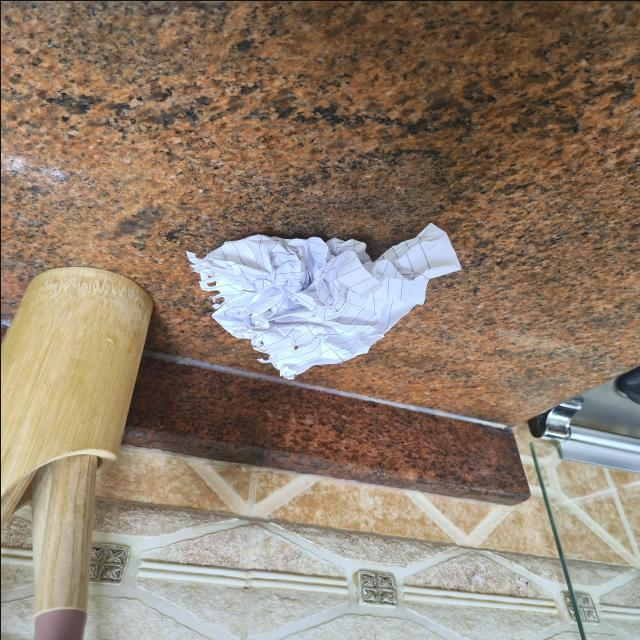Paper: (180, 214, 457, 380)
